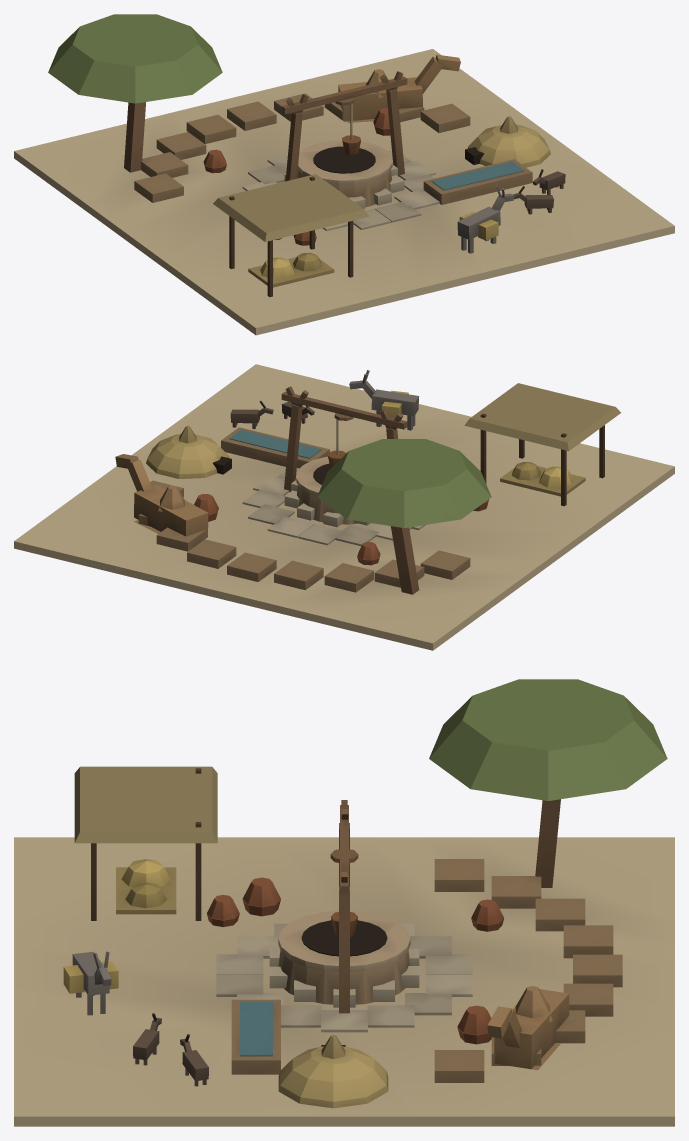
Rendered from well-of-buktu.glb.
3 renders of one model, top to bottom at view 1: azimuth 30°, elevation 25°; view 2: azimuth 150°, elevation 25°; view 3: azimuth 270°, elevation 25°, orthographic. The views are drawn at different scales.
Parts seen in each view (by area): view 1: p0_ground, p2_frame, p1_well; view 2: p0_ground, p2_frame, p1_well; view 3: p0_ground, p1_well, p2_frame.
Part boxes in pixels (bbox=[...]): p0_ground: bbox=[14, 49, 674, 335]; p2_frame: bbox=[48, 14, 565, 253]; p1_well: bbox=[134, 93, 532, 297]; p0_ground: bbox=[14, 364, 674, 650]; p2_frame: bbox=[115, 370, 491, 594]; p1_well: bbox=[138, 383, 620, 592]; p0_ground: bbox=[14, 837, 674, 1126]; p1_well: bbox=[74, 766, 622, 1082]; p2_frame: bbox=[63, 679, 667, 1108].
Bounding box in the file's own units: 12 × 3.68 × 12.
